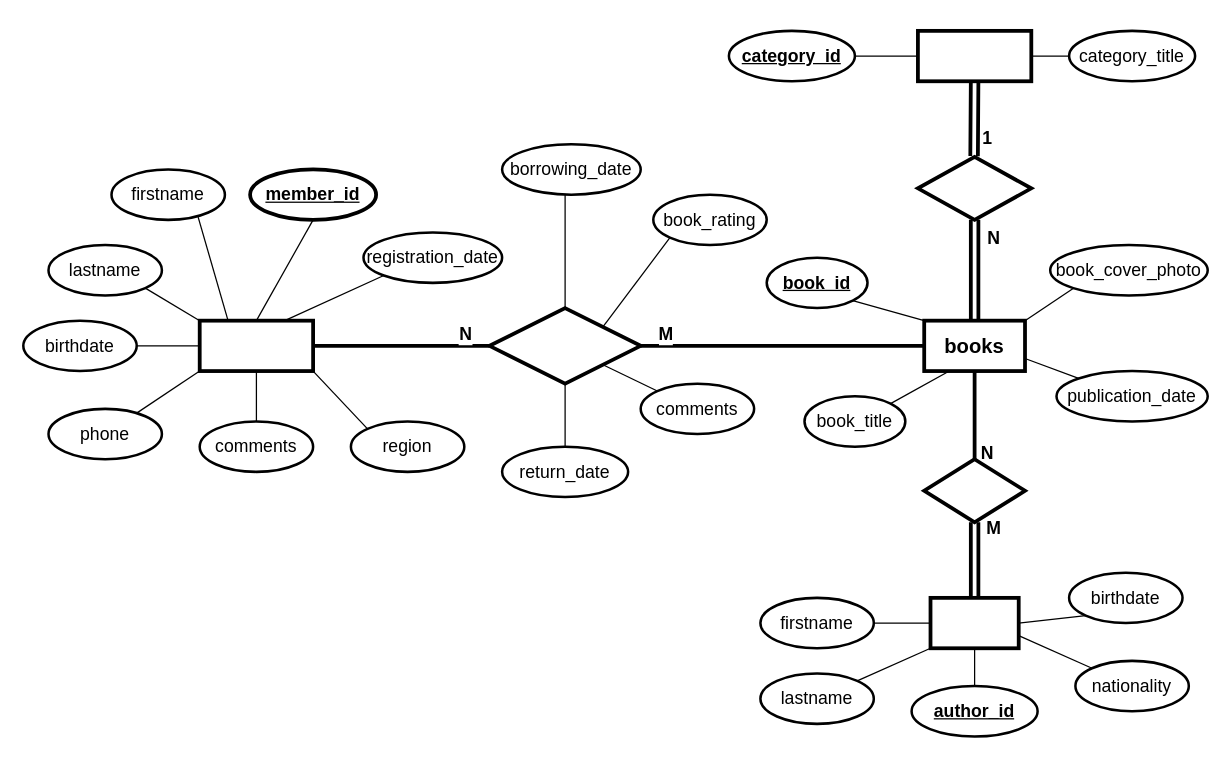
The diagram is 1230 pixels wide and 760 high, and some of its shapes have lost their labels. The shapes that lost their labels are listed below. From the top down, each one's box as (x1, y1, x2, y2) in pixels, then its label:
(915, 28, 1033, 83): categories
(915, 154, 1033, 221): belong
(197, 318, 314, 372): members
(487, 306, 642, 385): borrowings
(922, 457, 1026, 524): write
(928, 595, 1020, 650): authors
